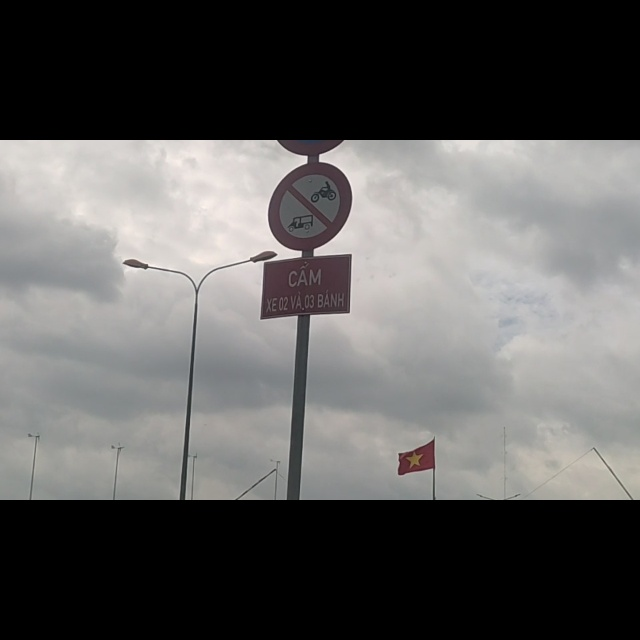bien_cam: (267, 41, 352, 198)
